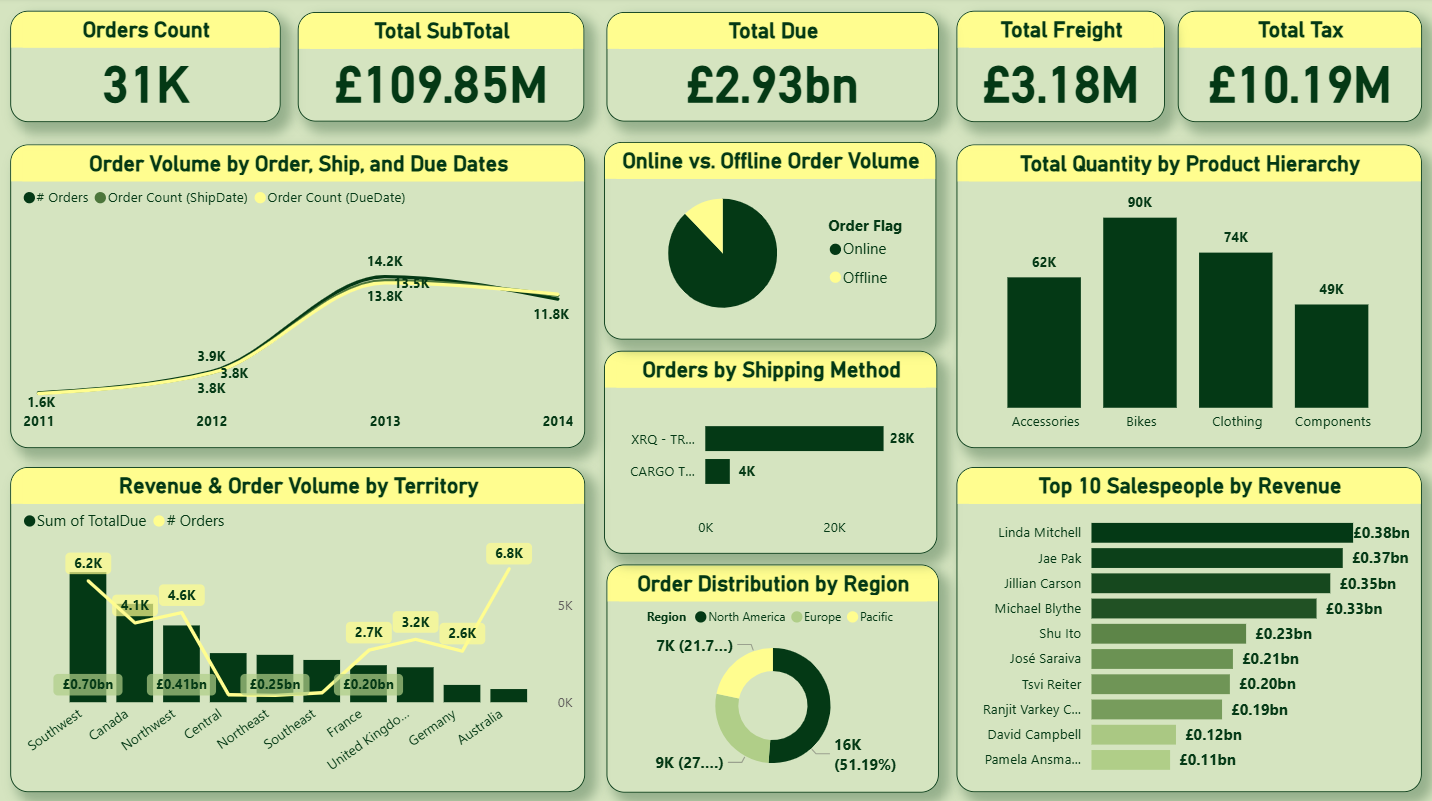

Layout of this report page (visuals, bound fields, positions):
{"tool":"powerbi","page":{"name":"Dashboard","canvas":[1280,720],"ordinal":0},"visuals":[{"type":"card","title":"Orders Count","fields":{"Values":["Dax_Measures.# Orders"]},"box":[9.8,12.2,240.9,99],"z":0},{"type":"card","title":"Total SubTotal","fields":{"Values":["Dax_Measures.SubTotal"]},"box":[266.6,13.5,255.6,97.8],"z":1000},{"type":"card","title":"Total Tax","fields":{"Values":["Dax_Measures.Total Tax"]},"box":[1049.2,12.2,217.7,99],"z":2000},{"type":"card","title":"Total Freight","fields":{"Values":["Dax_Measures.Total Freight"]},"box":[852.3,12.2,185.9,99],"z":3000},{"type":"card","title":"Total Due","fields":{"Values":["Sum(Sales_Fact.TotalDue)"]},"box":[540.5,13.5,295.9,97.8],"z":4000},{"type":"lineChart","title":"Order Volume by Order, Ship, and Due Dates","fields":{"Category":["Date_Dim.Date.Variation.Date Hierarchy.Year","Date_Dim.Date.Variation.Date Hierarchy.Quarter","Date_Dim.Date.Variation.Date Hierarchy.Month","Date_Dim.Date.Variation.Date Hierarchy.Day"],"Y":["Dax_Measures.# Orders","Dax_Measures.Order Count (ShipDate)","Dax_Measures.Order Count (DueDate)"]},"box":[9.8,130.8,512.4,270.2],"z":5000},{"type":"donutChart","title":"Order Distribution by Region","fields":{"Y":["Dax_Measures.# Orders"],"Category":["Territory_Dim.Group"]},"box":[540.5,505,295.9,203],"z":6000},{"type":"barChart","title":"Orders by Shipping Method","fields":{"Y":["Dax_Measures.# Orders"],"Category":["ShipMethod_Dim.ShipMethod"]},"box":[539.3,315.5,297.1,181],"z":7000},{"type":"columnChart","title":"Total Quantity by Product Hierarchy","fields":{"Category":["Product_Dim.ProductCategory Hierarchy.ProductCategory","Product_Dim.ProductCategory Hierarchy.ProductSubcategory","Product_Dim.ProductCategory Hierarchy.Product"],"Y":["Dax_Measures.# OrderQTY"]},"box":[852.3,130.8,414.5,270.2],"z":8000},{"type":"pieChart","title":"Online vs. Offline Order Volume","fields":{"Y":["Dax_Measures.# Orders"],"Category":["Sales_Fact.OnlineOrderFlag"]},"box":[539.3,129.6,295.9,176.1],"z":9000},{"type":"lineStackedColumnComboChart","title":"Revenue & Order Volume by Territory","fields":{"Y":["Sum(Sales_Fact.TotalDue)"],"Y2":["Dax_Measures.# Orders"],"Category":["Territory_Dim.Territory"]},"box":[9.8,418.2,512.4,289.8],"z":10000},{"type":"barChart","title":"Top 10 Salespeople by Revenue","fields":{"Category":["SalesPerson_Dim.Salesperson Name"],"Y":["Sum(Sales_Fact.TotalDue)"]},"box":[852.3,418.2,414.5,289.8],"z":11000}]}

Visuals, with their boxes in screenshot pixels (x1, y1, x2, y2), scaled from the page's 1280x720 canvas onto the 1432x801 screenshot:
"Orders Count" card: [11, 14, 280, 124]
"Total SubTotal" card: [298, 15, 584, 124]
"Total Tax" card: [1174, 14, 1417, 124]
"Total Freight" card: [954, 14, 1161, 124]
"Total Due" card: [605, 15, 936, 124]
"Order Volume by Order, Ship, and Due Dates" lineChart: [11, 146, 584, 446]
"Order Distribution by Region" donutChart: [605, 562, 936, 788]
"Orders by Shipping Method" barChart: [603, 351, 936, 552]
"Total Quantity by Product Hierarchy" columnChart: [954, 146, 1417, 446]
"Online vs. Offline Order Volume" pieChart: [603, 144, 934, 340]
"Revenue & Order Volume by Territory" lineStackedColumnComboChart: [11, 465, 584, 788]
"Top 10 Salespeople by Revenue" barChart: [954, 465, 1417, 788]
